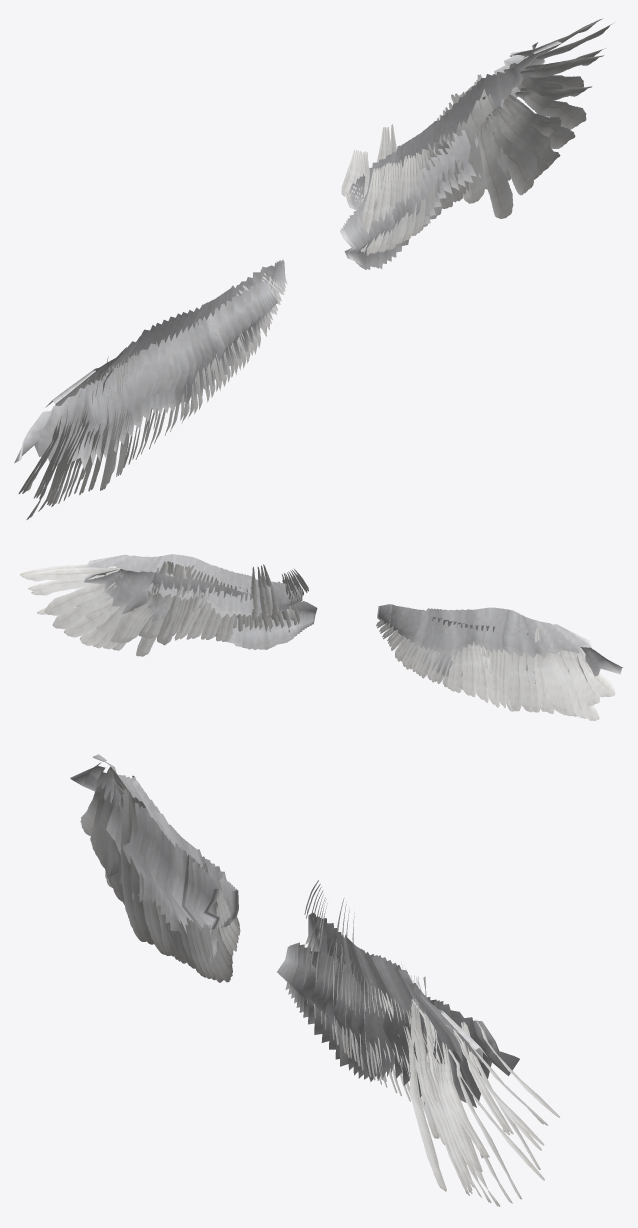
File: wings.obj
The picture shows the model from 3 angles, top to bottom: view 1: azimuth 30°, elevation 25°; view 2: azimuth 150°, elevation 25°; view 3: azimuth 270°, elevation 25°; orthographic projection. The views are drawn at different scales.
Parts seen in each view (by area): view 1: polySurface209.001, polySurface300.001, polySurface301.001, polySurface371.001, polySurface244.001, polySurface239.001, polySurface240.001; view 2: polySurface371.001, polySurface300.001, polySurface301.001, polySurface209.001, polySurface370.001, polySurface319.001, polySurface316.001, polySurface240.001, polySurface305.001, polySurface139.001, polySurface315.001, polySurface303.001 (+26 smaller); view 3: polySurface300.001, polySurface209.001, polySurface301.001, polySurface371.001, polySurface154.001, polySurface233.001, polySurface156.001, polySurface240.001.
Boxes of the visible parts, <box> form: polySurface209.001: <box>14,280,277,470</box>; polySurface300.001: <box>340,42,538,270</box>; polySurface301.001: <box>347,41,561,212</box>; polySurface371.001: <box>45,259,287,407</box>; polySurface244.001: <box>478,125,509,218</box>; polySurface239.001: <box>486,116,533,195</box>; polySurface240.001: <box>520,87,586,129</box>; polySurface371.001: <box>377,604,591,658</box>; polySurface300.001: <box>84,569,317,649</box>; polySurface301.001: <box>85,554,302,617</box>; polySurface209.001: <box>403,617,622,683</box>; polySurface370.001: <box>22,567,120,581</box>; polySurface319.001: <box>44,575,120,615</box>; polySurface316.001: <box>64,605,118,637</box>; polySurface240.001: <box>52,596,111,628</box>; polySurface305.001: <box>112,567,158,642</box>; polySurface139.001: <box>579,647,615,696</box>; polySurface315.001: <box>79,606,124,645</box>; polySurface303.001: <box>28,580,87,592</box>; polySurface300.001: <box>277,942,519,1107</box>; polySurface209.001: <box>70,762,219,962</box>; polySurface301.001: <box>305,912,487,1063</box>; polySurface371.001: <box>92,754,238,928</box>; polySurface154.001: <box>123,791,146,941</box>; polySurface233.001: <box>406,1027,446,1191</box>; polySurface156.001: <box>132,797,154,944</box>; polySurface240.001: <box>448,1049,521,1199</box>.
Size of the model in its own units: 86.09 by 23.18 by 38.03.
Materials: 2 (2 with a texture image).
